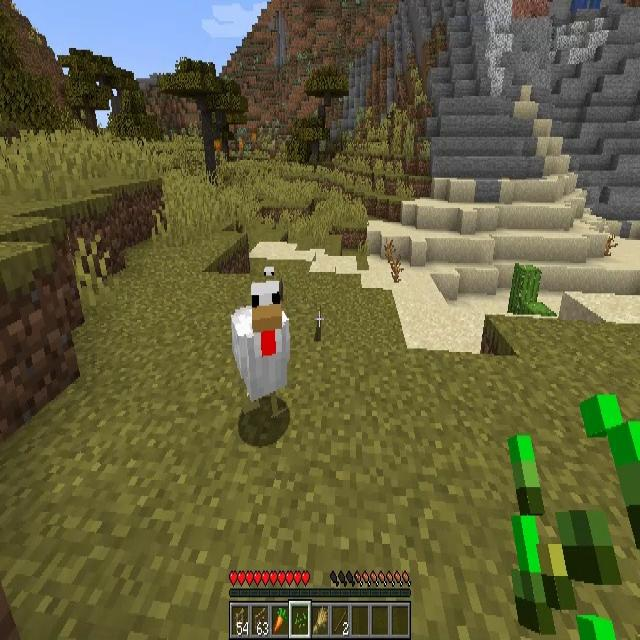duck: (233, 283, 289, 421)
